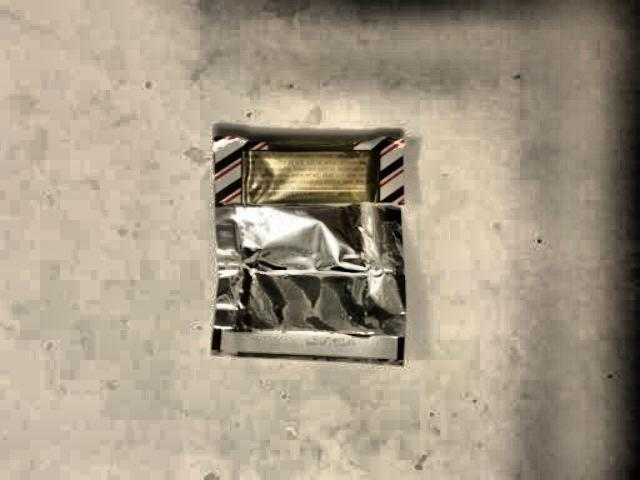Plastic: (209, 72, 413, 423)
